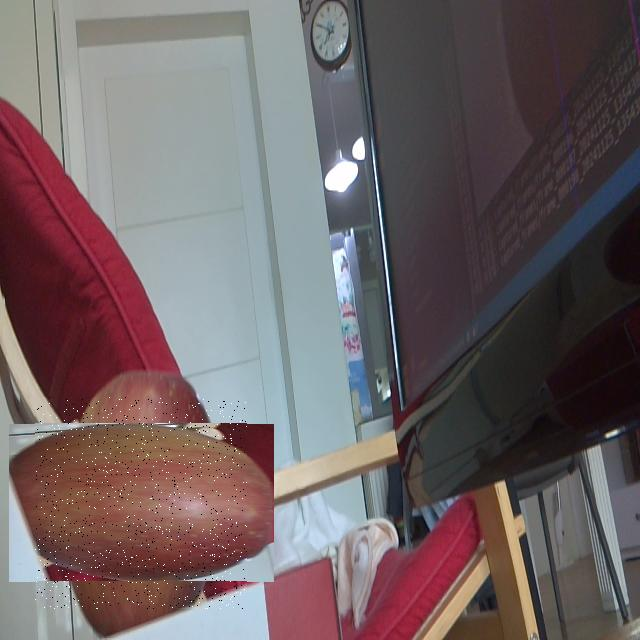apple: (35, 398, 247, 610)
